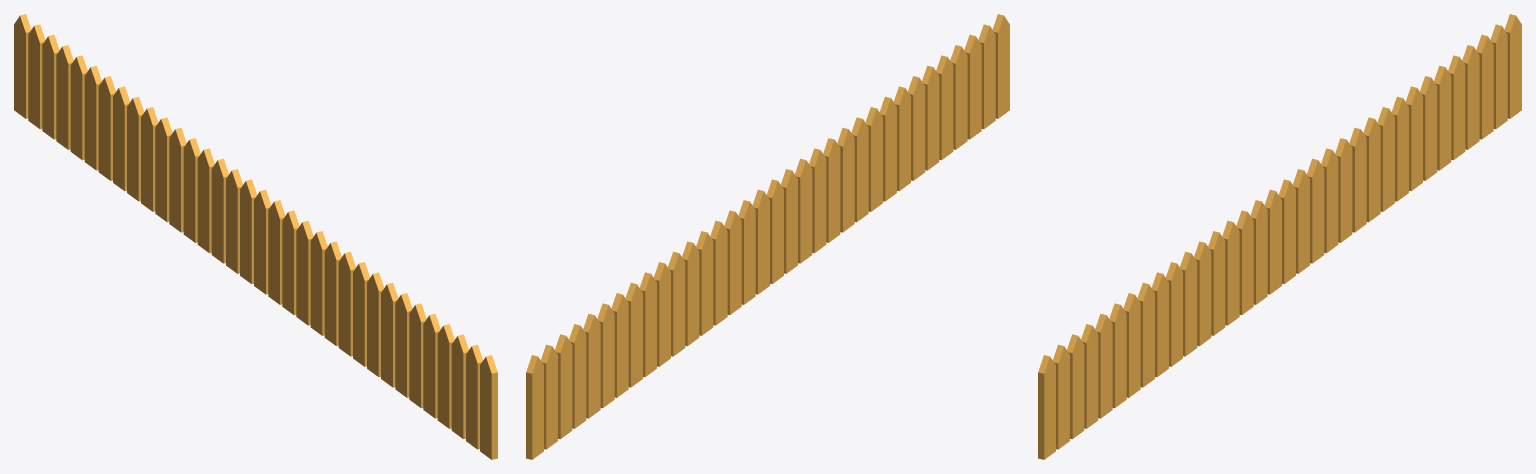
The model's file is Fence.glb.
3 views of the same model, side by side, from view 1: azimuth 30°, elevation 25°; view 2: azimuth 150°, elevation 25°; view 3: azimuth 330°, elevation 25° (orthographic).
Visible parts, largest first — view 1: FenceRight; view 2: FenceRight; view 3: FenceRight.
Part boxes in pixels (<box>): FenceRight: <box>14,14,497,459</box>; FenceRight: <box>526,14,1009,459</box>; FenceRight: <box>1038,14,1521,459</box>.
Bounding box in the file's own units: 0.1501 × 2.3 × 20.12.
